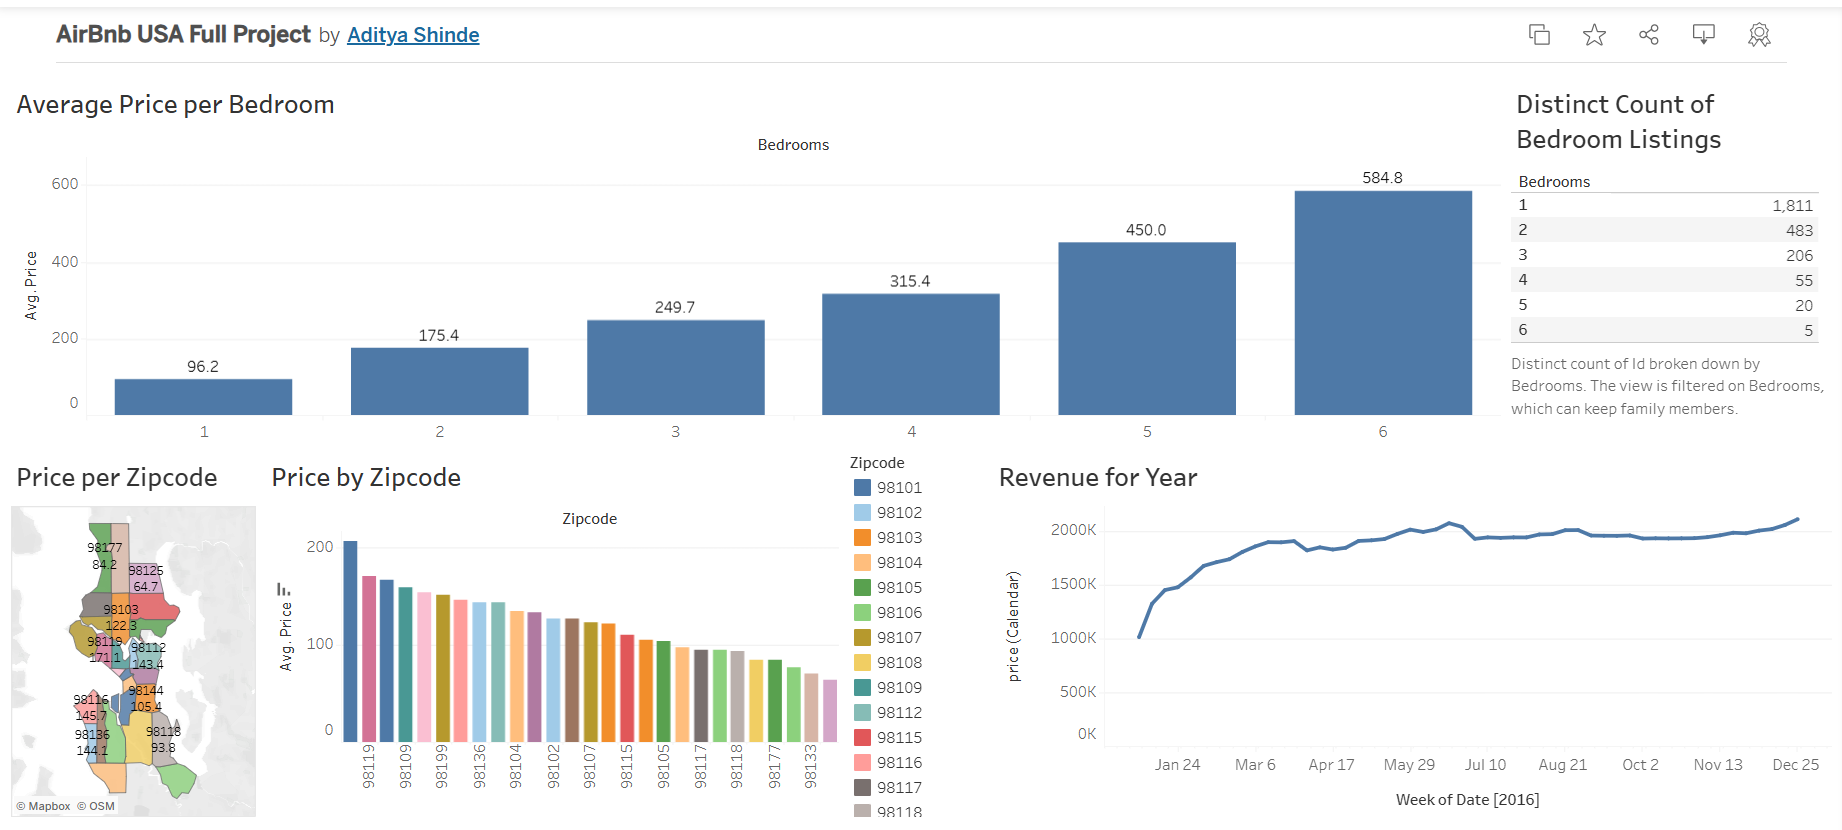

The page's visual inventory and layout, read from the dashboard file:
{"tool":"tableau","page":{"name":"Dashboard 1","canvas":[1000,1000],"units":"permille","ordinal":0},"visuals":[{"type":"worksheet","title":"Sheet 4","mark":"Automatic","rows":["price"],"cols":["bedrooms"],"box":[6.8,12.9,807.9,486.5]},{"type":"worksheet","title":"Sheet 5","mark":"Automatic","rows":["bedrooms"],"box":[814.7,12.9,178.5,486.5]},{"type":"worksheet","title":"Sheet 2","mark":"Multipolygon","box":[6.8,499.4,95,487.7]},{"type":"worksheet","title":"Sheet 1","mark":"Automatic","rows":["price"],"cols":["zipcode"],"box":[101.8,499.4,216.8,487.7]},{"type":"legend","title":"Sheet 1","param":"[federated.1rj9v2u1jqq8vo1a60mld05249sj].[none:zipcode:ok]","box":[318.6,499.4,97.7,487.7]},{"type":"worksheet","title":"Sheet 3","mark":"Automatic","rows":["price (Calendar)"],"cols":["date"],"box":[416.3,499.4,576.9,487.7]}]}

Visuals, with their boxes on the dashboard's canvas, which has no fixed pixel size, in thousandths of its width and height (x1, y1, x2, y2). These are canvas units, not pixel positions in the 1842x830 screenshot, which may show the page scaled, cropped or inside an application window:
"Sheet 4" worksheet: locate(7, 13, 815, 499)
"Sheet 5" worksheet: locate(815, 13, 993, 499)
"Sheet 2" worksheet (Multipolygon marks): locate(7, 499, 102, 987)
"Sheet 1" worksheet: locate(102, 499, 319, 987)
"Sheet 1" legend: locate(319, 499, 416, 987)
"Sheet 3" worksheet: locate(416, 499, 993, 987)
